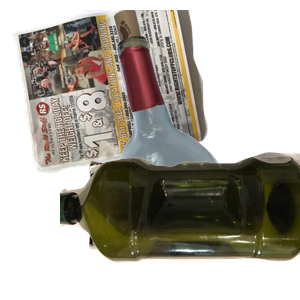glass: (89, 10, 300, 190)
paper: (10, 10, 210, 175)
plastic: (60, 149, 300, 300)
trash: (86, 158, 242, 300)
